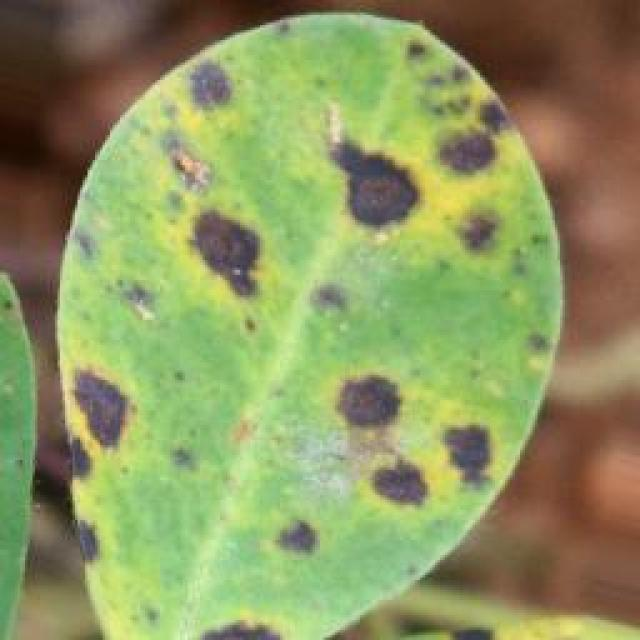Yellowish: (43, 11, 555, 607)
